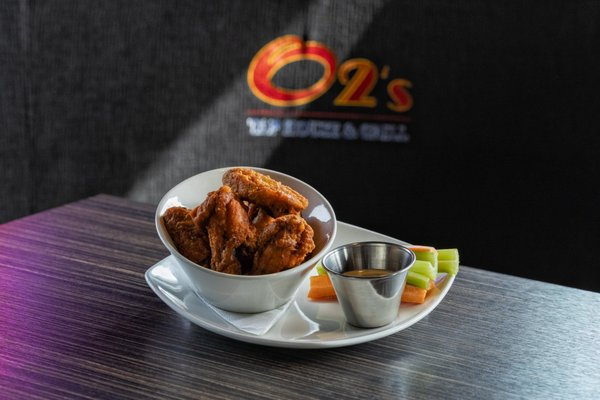pizza: (320, 240, 415, 329)
sushi: (155, 165, 337, 315)
